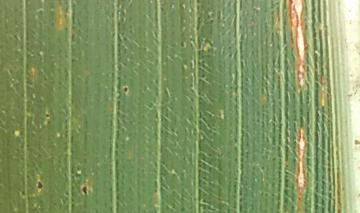tarspot: (81, 186, 88, 195), (36, 181, 43, 188), (123, 87, 128, 93), (45, 114, 49, 118)
